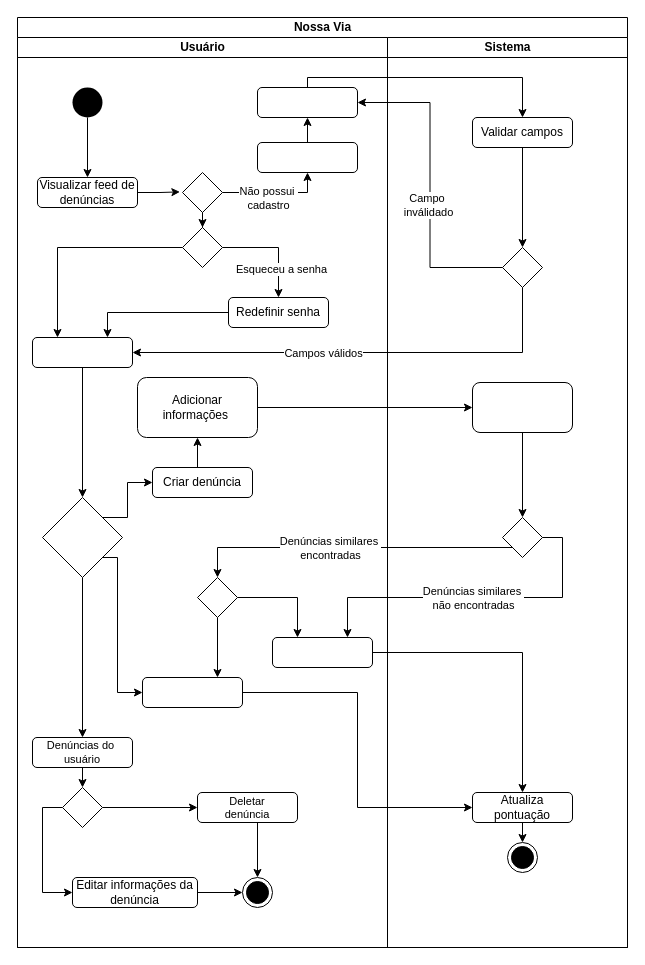
Image size: 645x965. Some labels were removed from this diagram. The centre of each missing label's shape, as x and y in pixels:
"Buscar por denúncias similares" belongs at [522,407].
"Cadastrar-se" belongs at [307,157].
"Interagir com denúncia" belongs at [192,692].
"Login" belongs at [82,352].
"Preencher campos" belongs at [307,102].
"Seguir com a criação" belongs at [322,652].
